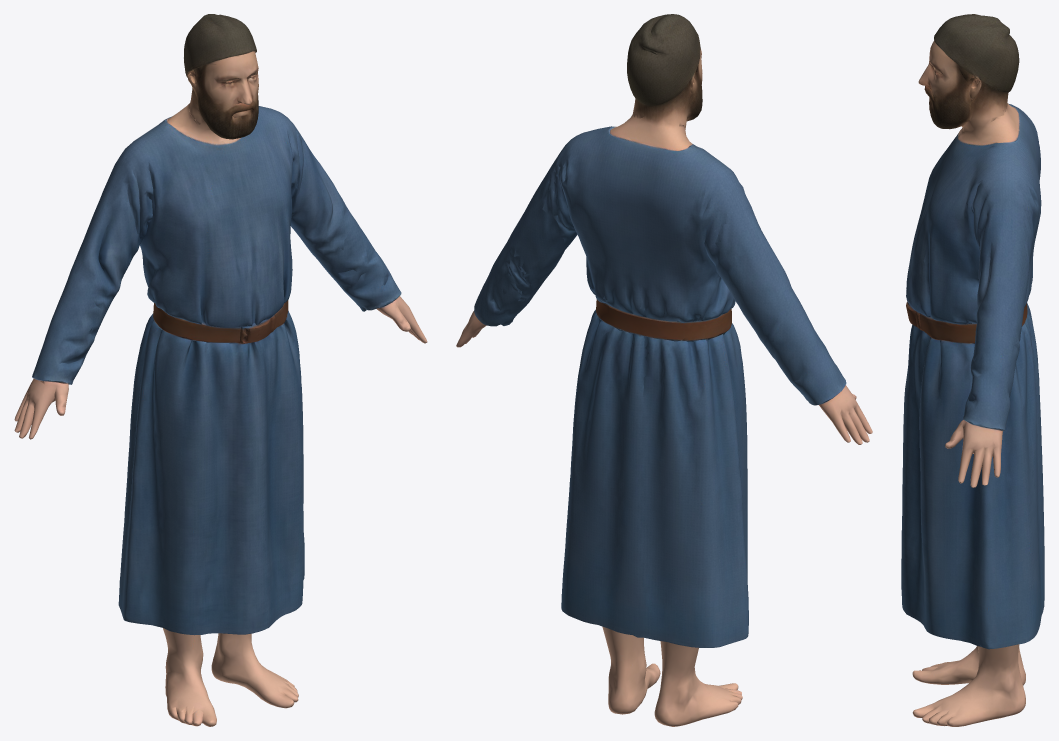
The model's file is israelite_kippa_3.glb.
3 views of the same model, side by side, from view 1: azimuth 30°, elevation 25°; view 2: azimuth 150°, elevation 25°; view 3: azimuth 270°, elevation 25° (orthographic).
Parts seen in each view (by area): view 1: Mesh; view 2: Mesh; view 3: Mesh.
Boxes of the visible parts, box(x1,y1,x2,y2) form: Mesh: box(14, 14, 427, 726); Mesh: box(456, 14, 872, 726); Mesh: box(901, 14, 1044, 726).
Size of the model in its own units: 1.18 by 1.89 by 0.3602.
1 material, 1 textured.
